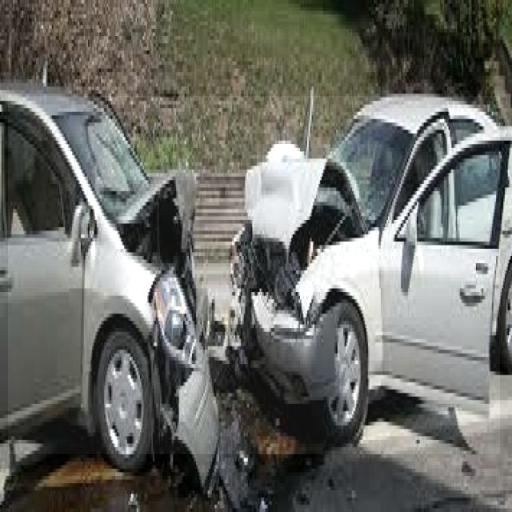小汽车撞小汽车: (8, 96, 500, 454)
